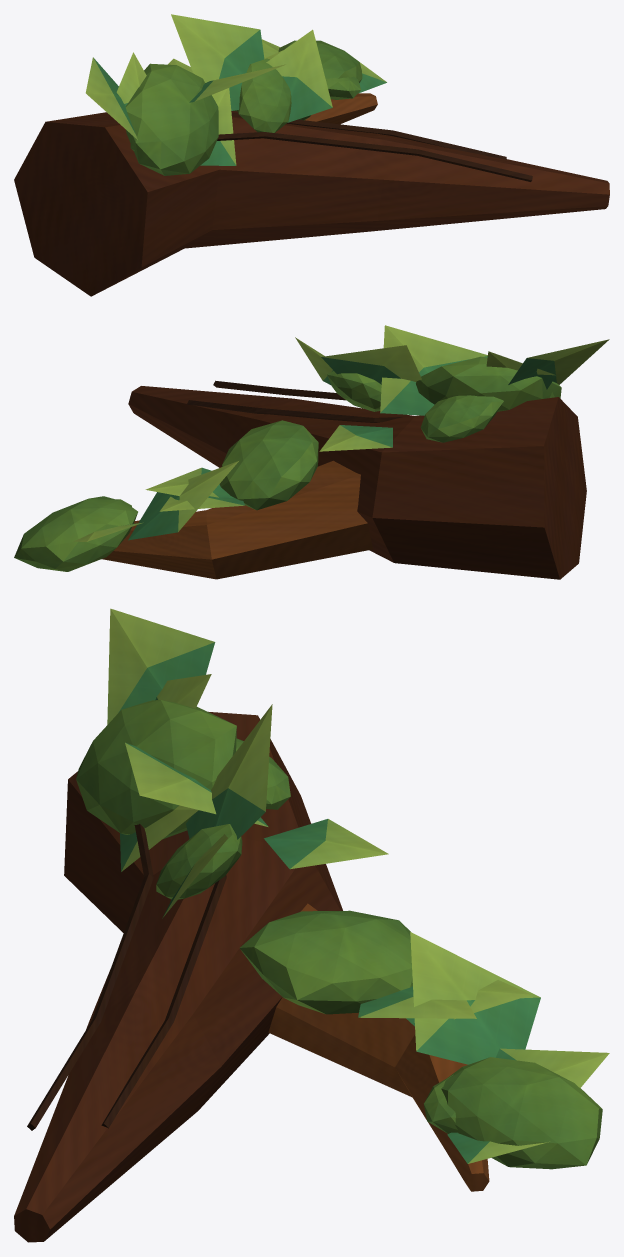
Rendered from forest_root.glb.
The picture shows the model from 3 angles, top to bottom: view 1: azimuth 30°, elevation 25°; view 2: azimuth 150°, elevation 25°; view 3: azimuth 270°, elevation 25°; orthographic projection. The views are drawn at different scales.
Parts seen in each view (by area): view 1: Gnarled exposed root, Woodland shared moss cushion.030, Woodland shared curved ivy leaf.099, Woodland shared curved ivy leaf.100, Woodland shared moss cushion.034, Root bark carved grain, Woodland shared curved ivy leaf.091, Woodland shared curved ivy leaf.092, Woodland shared moss cushion.029, Root fork, Root bark carved grain.001, Woodland shared curved ivy leaf.097 (+3 smaller); view 2: Gnarled exposed root, Root fork, Woodland shared moss cushion.032, Woodland shared moss cushion.029, Woodland shared moss cushion.030, Woodland shared curved ivy leaf.097, Woodland shared moss cushion.033, Woodland shared curved ivy leaf.089, Woodland shared curved ivy leaf.099, Woodland shared curved ivy leaf.091, Woodland shared curved ivy leaf.098, Woodland shared moss cushion.034 (+7 smaller); view 3: Gnarled exposed root, Woodland shared moss cushion.032, Woodland shared moss cushion.029, Woodland shared moss cushion.030, Root fork, Woodland shared curved ivy leaf.089, Woodland shared curved ivy leaf.091, Woodland shared curved ivy leaf.099, Woodland shared curved ivy leaf.098, Woodland shared moss cushion.034, Root bark carved grain, Woodland shared curved ivy leaf.097 (+9 smaller).
Boxes of the visible parts, <box> form: Gnarled exposed root: <box>14,111,609,296</box>; Woodland shared moss cushion.030: <box>125,63,218,175</box>; Woodland shared curved ivy leaf.099: <box>171,14,264,110</box>; Woodland shared curved ivy leaf.100: <box>266,29,332,122</box>; Woodland shared moss cushion.034: <box>237,58,291,132</box>; Root bark carved grain: <box>217,132,532,181</box>; Woodland shared curved ivy leaf.091: <box>85,57,137,139</box>; Woodland shared curved ivy leaf.092: <box>200,88,236,165</box>; Woodland shared moss cushion.029: <box>278,40,362,82</box>; Root fork: <box>305,93,377,124</box>; Root bark carved grain.001: <box>231,113,506,159</box>; Woodland shared curved ivy leaf.097: <box>189,64,285,102</box>; Gnarled exposed root: <box>128,386,586,579</box>; Root fork: <box>101,460,372,579</box>; Woodland shared moss cushion.032: <box>219,420,318,510</box>; Woodland shared moss cushion.029: <box>14,496,137,571</box>; Woodland shared moss cushion.030: <box>416,356,561,411</box>; Woodland shared curved ivy leaf.097: <box>380,325,487,415</box>; Woodland shared moss cushion.033: <box>420,395,503,442</box>; Woodland shared curved ivy leaf.089: <box>128,461,238,540</box>; Woodland shared curved ivy leaf.099: <box>321,345,421,384</box>; Woodland shared curved ivy leaf.091: <box>508,339,609,384</box>; Woodland shared curved ivy leaf.098: <box>319,425,392,451</box>; Woodland shared moss cushion.034: <box>327,371,381,411</box>; Gnarled exposed root: <box>14,711,342,1242</box>; Woodland shared moss cushion.032: <box>239,910,412,1014</box>; Woodland shared moss cushion.029: <box>441,1057,602,1169</box>; Woodland shared moss cushion.030: <box>76,700,236,838</box>; Root fork: <box>268,903,489,1191</box>; Woodland shared curved ivy leaf.089: <box>410,932,540,1064</box>; Woodland shared curved ivy leaf.091: <box>107,608,215,724</box>; Woodland shared curved ivy leaf.099: <box>186,704,272,839</box>; Woodland shared curved ivy leaf.098: <box>264,819,388,869</box>; Woodland shared moss cushion.034: <box>156,824,242,899</box>; Root bark carved grain: <box>27,824,153,1130</box>; Woodland shared curved ivy leaf.097: <box>125,742,268,826</box>.
Bounding box in the file's own units: 0.9979 × 0.4181 × 0.7349.
Materials: 6 (6 with a texture image).
